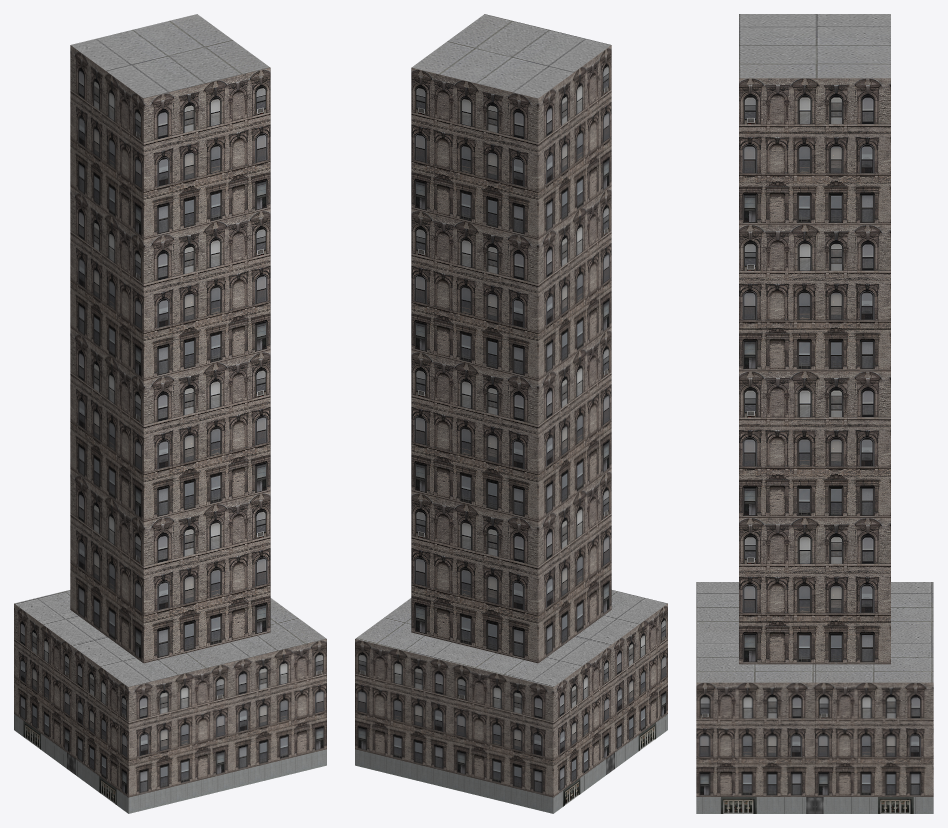
Rendered from Building010.fbx.
3 renders of one model, left to right at view 1: azimuth 30°, elevation 25°; view 2: azimuth 150°, elevation 25°; view 3: azimuth 270°, elevation 25°, orthographic. The views are drawn at different scales.
Visible parts, largest first — view 1: Building010; view 2: Building010; view 3: Building010.
Boxes of the visible parts, x1,y1,x2,y2 form: Building010: [14, 14, 326, 813]; Building010: [355, 14, 667, 813]; Building010: [696, 14, 933, 813].
Size of the model in its own units: 31.52 by 105 by 31.52.
